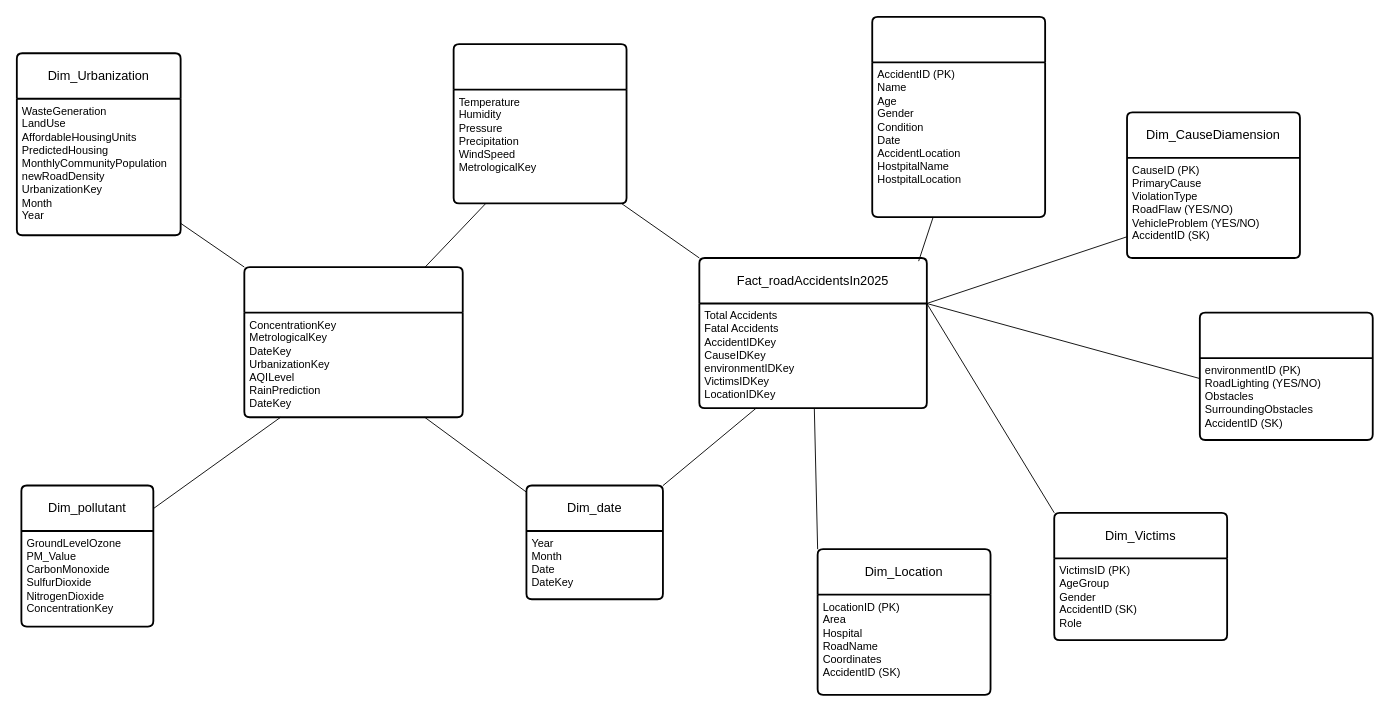
The diagram is 1389 pixels wide and 711 high, and some of its shapes have lost their labels. The shapes that lost their labels are listed below. From the top down, each one's box as (x1, y1, x2, y2) in pixels, then its label:
(452, 43, 627, 204): Dim_metrologicalConditions
(871, 15, 1046, 217): Dim_PatientDiamension
(243, 266, 463, 418): Fact_AirQuality_in_next_12_months
(1198, 311, 1373, 440): Dim_environment
